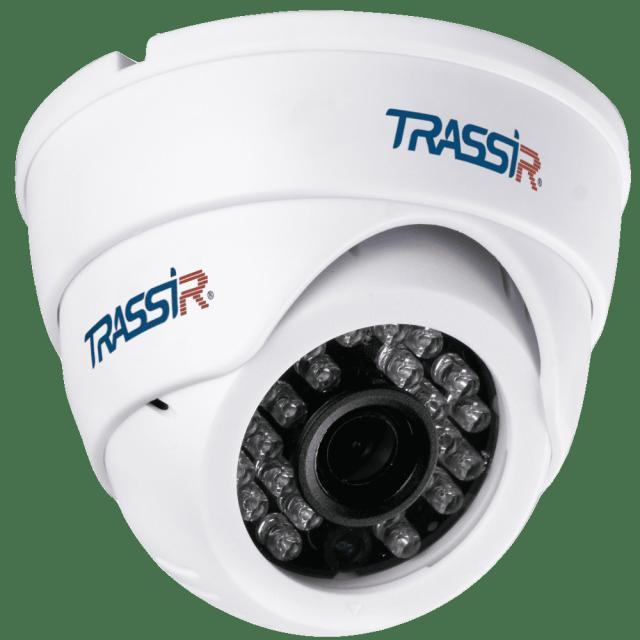hidden camera: (284, 333, 448, 583)
